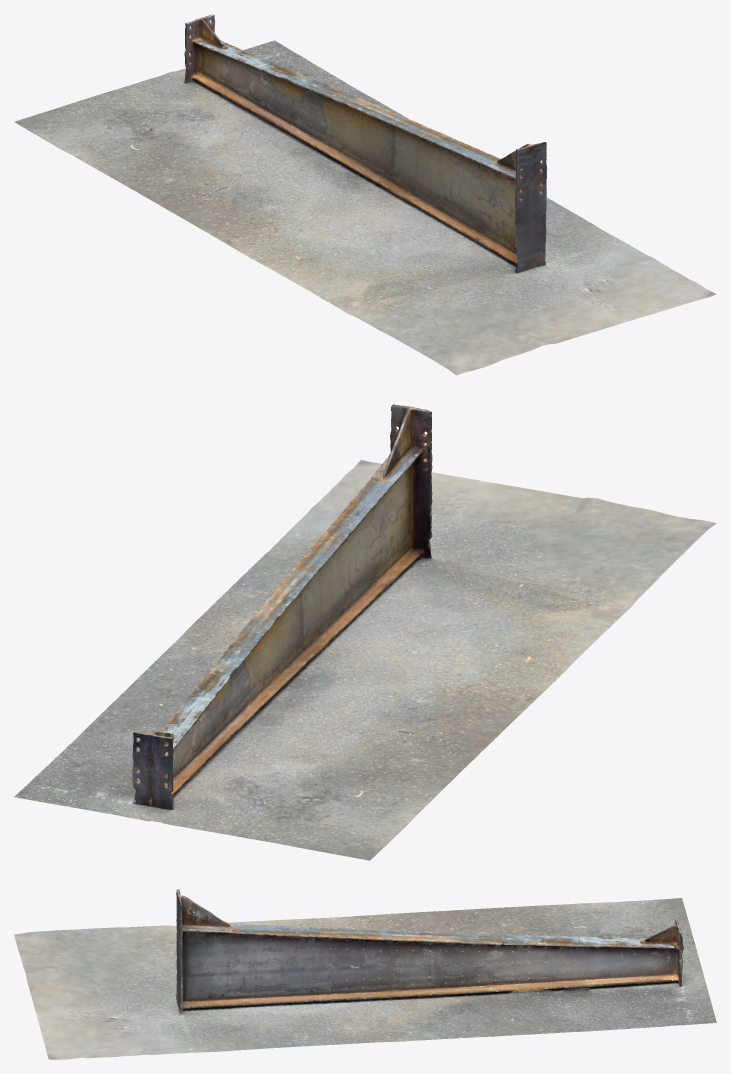
3 renders of one model, top to bottom at view 1: azimuth 30°, elevation 25°; view 2: azimuth 150°, elevation 25°; view 3: azimuth 270°, elevation 25°, orthographic. The views are drawn at different scales.
Size of the model in its own units: 1.9 by 0.6424 by 3.58.
1 material, 1 textured.
